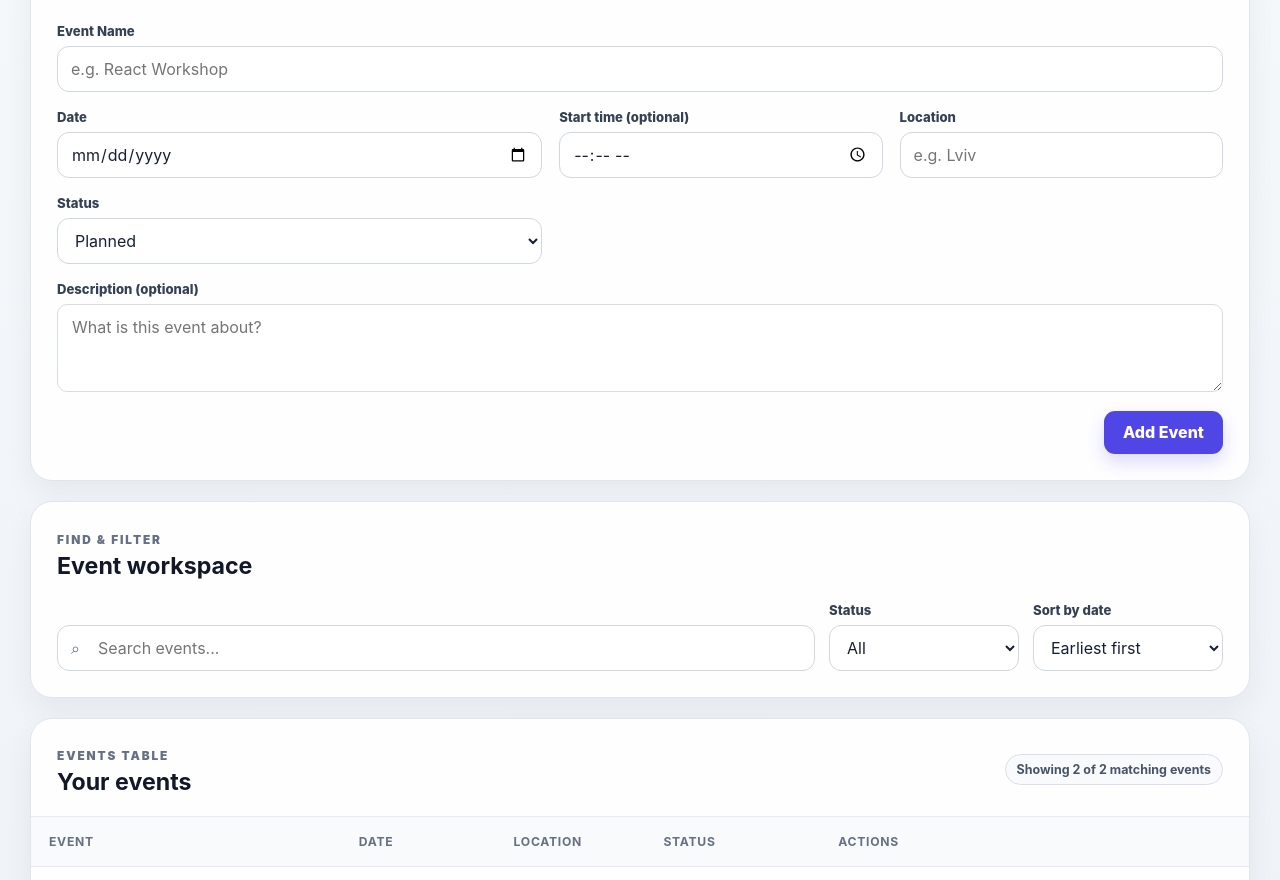
it: validates required fields without API request
(page scrolled)
Step 1. Click the button "Add Event" → {"x": 1164, "y": 432}, box left=1104, top=411, right=1223, bottom=454
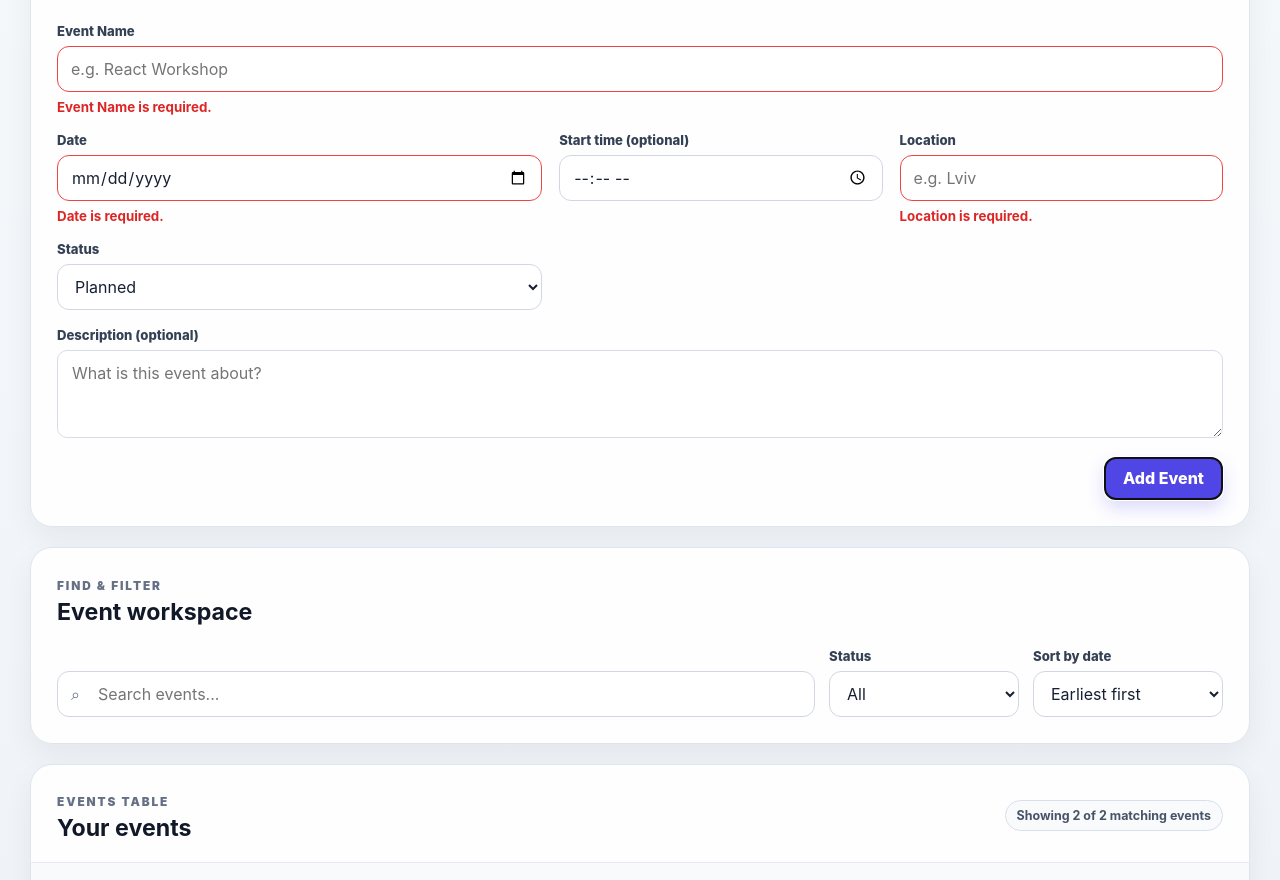
Now the text "Event Name is required." is shown, box left=57, top=99, right=212, bottom=115
